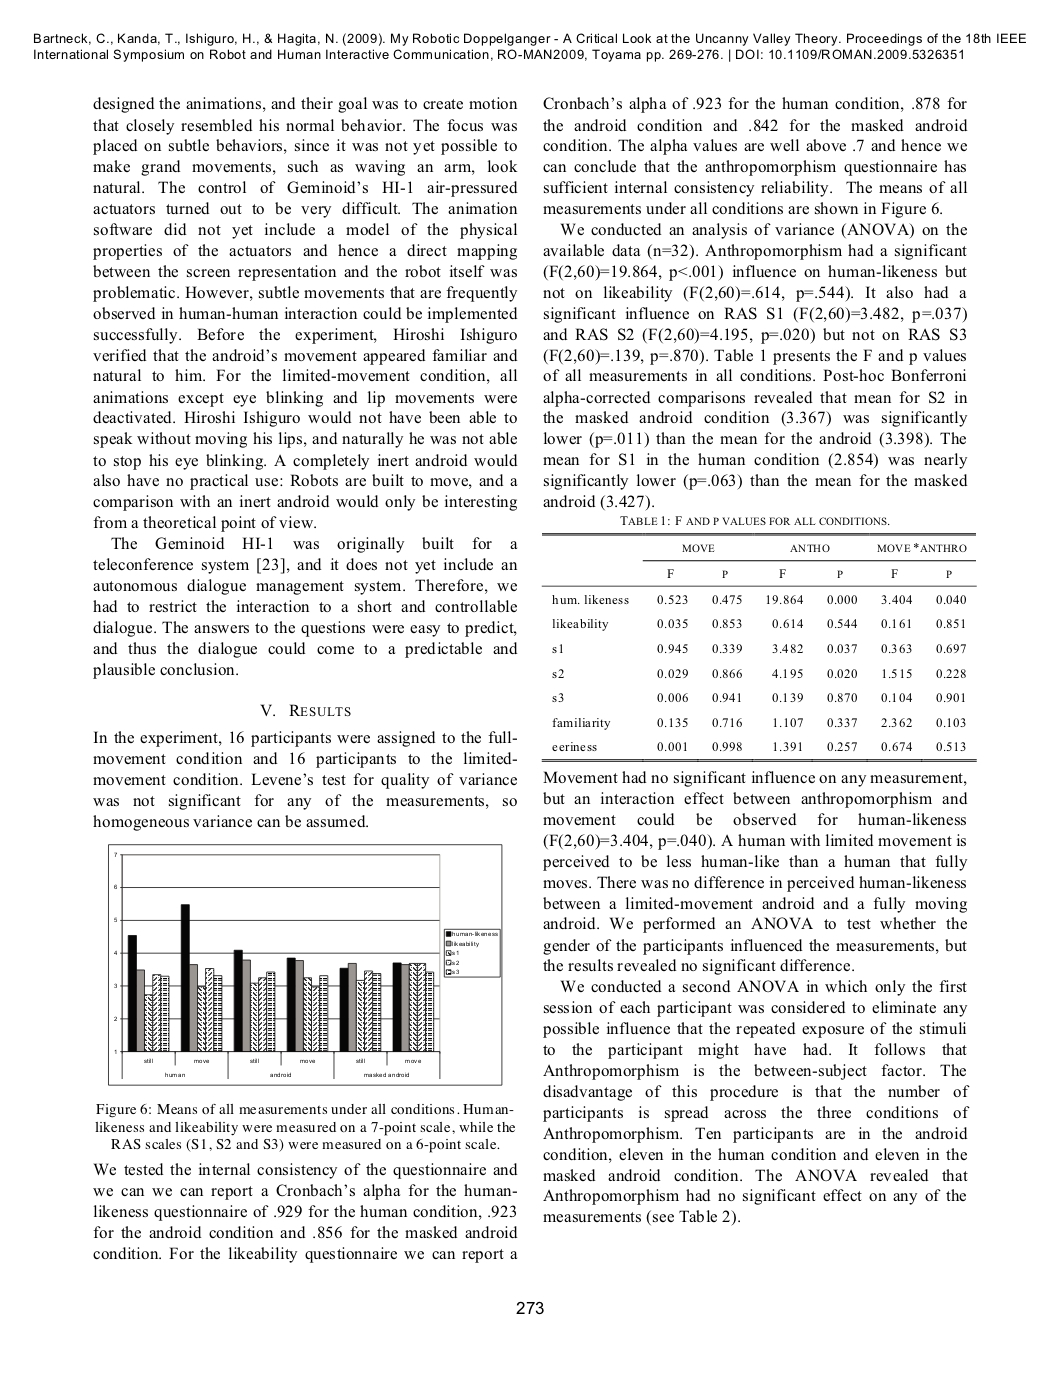Table: (541, 533, 976, 761)
figure: (108, 843, 502, 1085)
